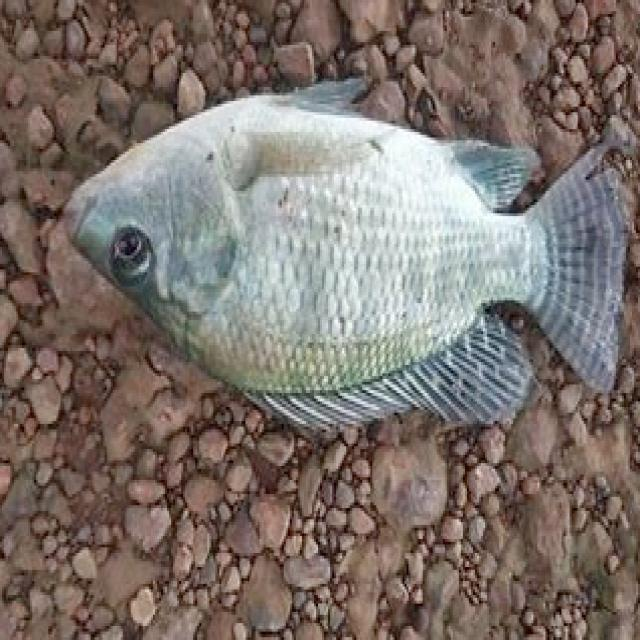Tilapia: (67, 76, 627, 425)
